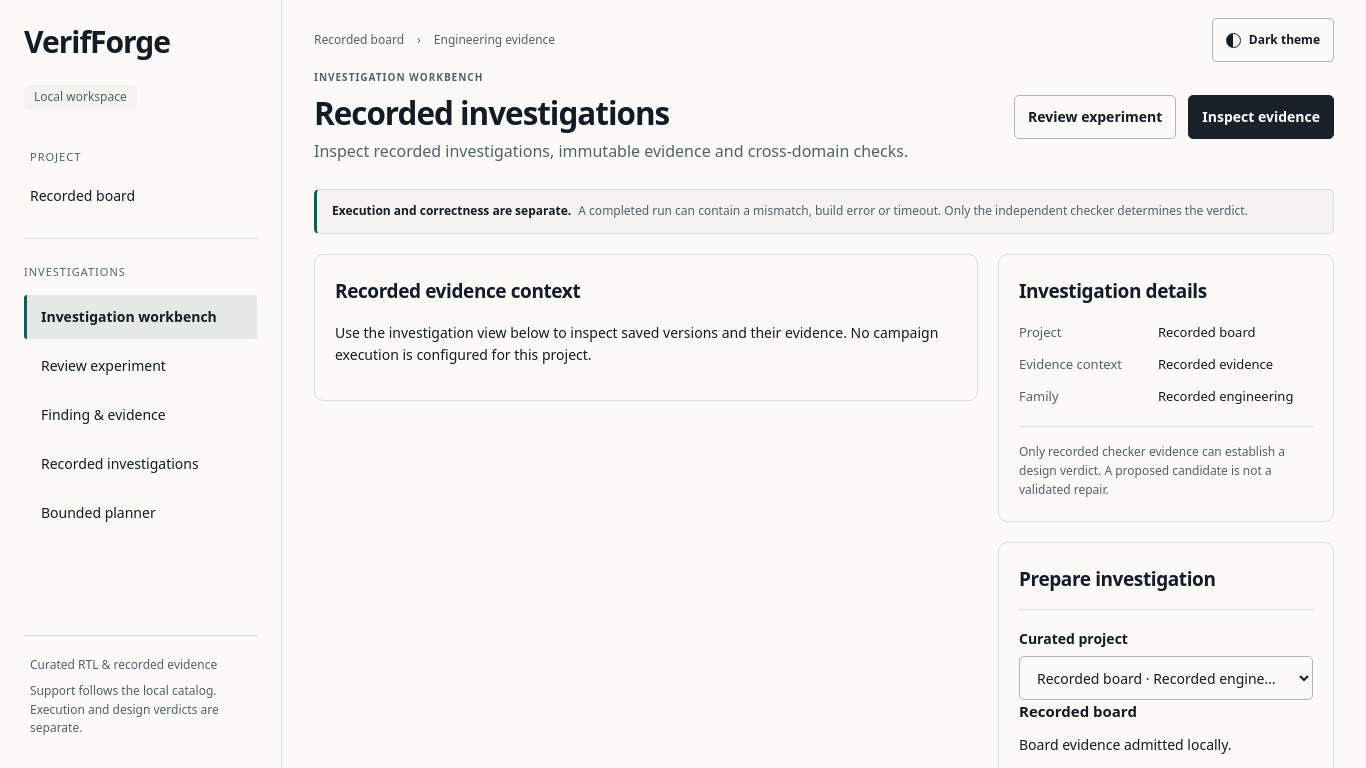
it: requires a fresh project-scoped investigation capability, including after switching projects
Select "Recorded firmware · Recorded engineering" in the dropdown labelled "Curated project" at (1166, 678), box [1019, 656, 1313, 700]
(page scrolled)
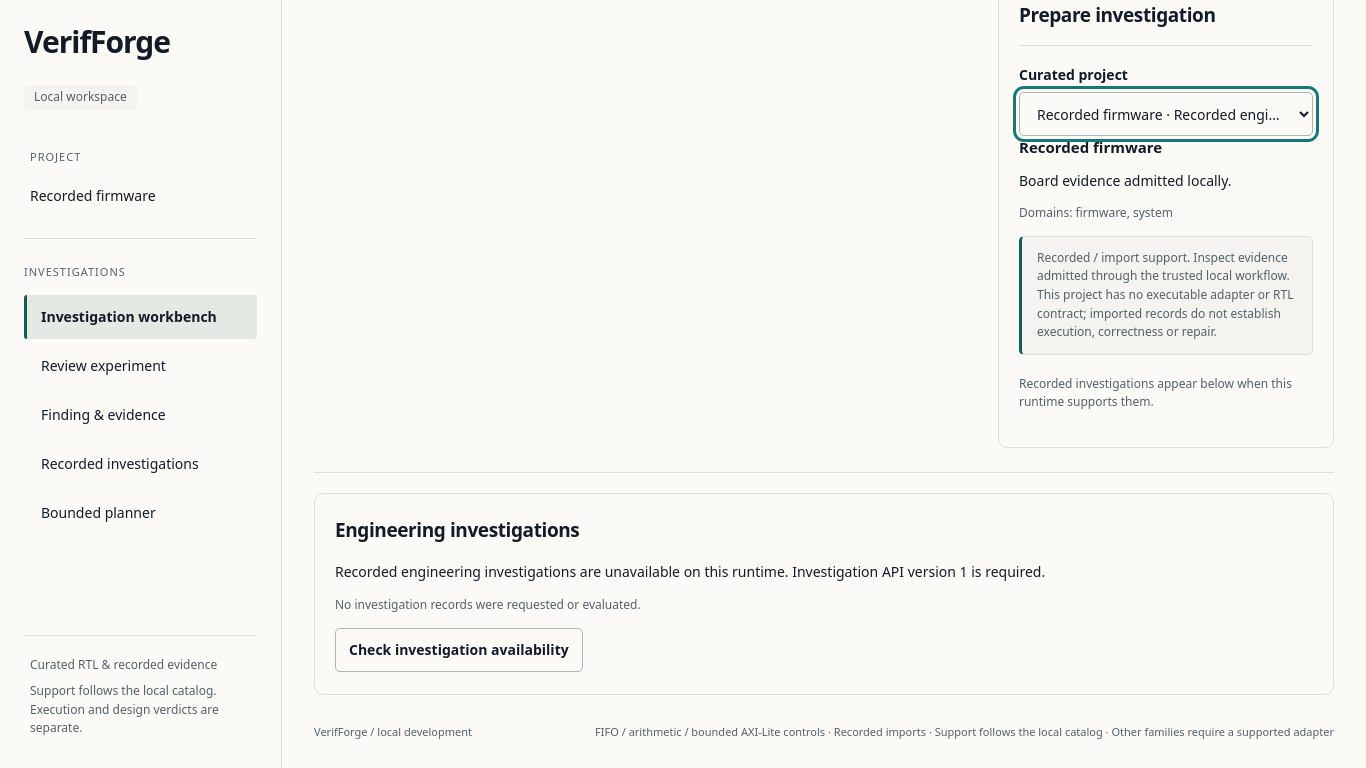
Now the text "Investigation API version 1 is required" is shown, box [335, 562, 1045, 582]
